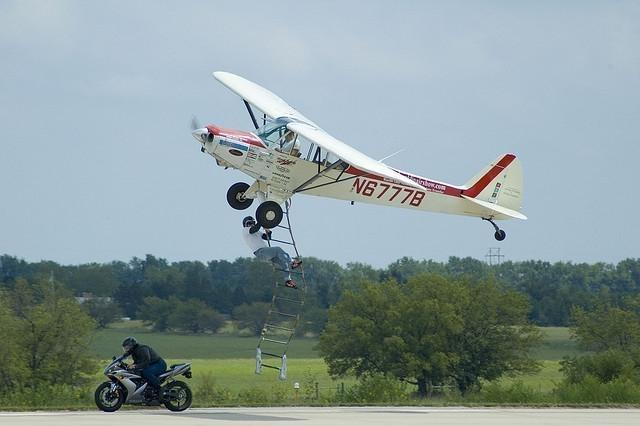motorcycle: (94, 355, 192, 412)
